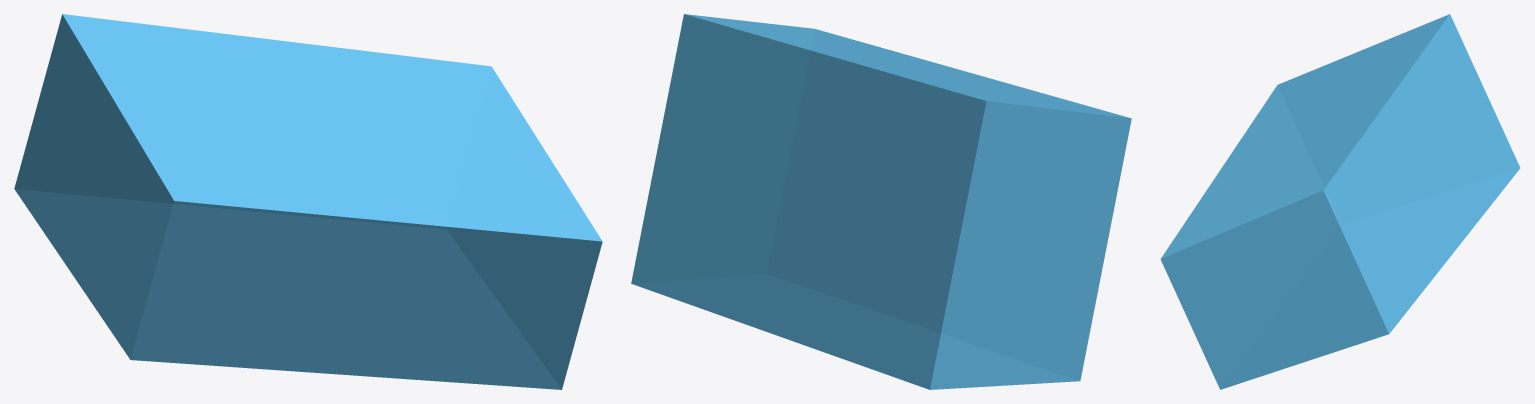
Rendered from Event_421115418_HErechit_78.fbx.
The picture shows the model from 3 angles, left to right: view 1: azimuth 30°, elevation 25°; view 2: azimuth 150°, elevation 25°; view 3: azimuth 270°, elevation 25°; orthographic projection. The views are drawn at different scales.
Visible parts, largest first — view 1: Model; view 2: Model; view 3: Model.
Boxes of the visible parts, left/top/right/bottom form: Model: left=14, top=14, right=602, bottom=389; Model: left=631, top=14, right=1131, bottom=389; Model: left=1160, top=14, right=1520, bottom=389.
Bounding box in the file's own units: 0.7829 × 0.74 × 0.9538.
